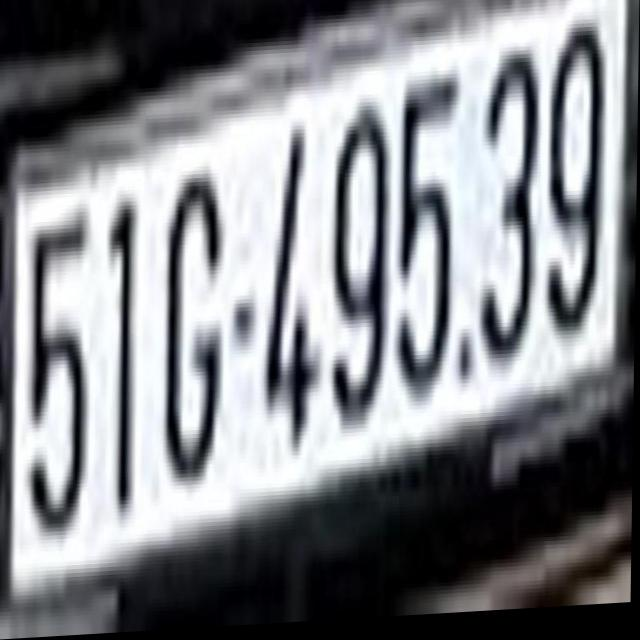1: (102, 191, 138, 511)
3: (479, 34, 535, 377)
4: (267, 109, 321, 460)
5: (397, 68, 459, 400), (29, 209, 91, 537)
9: (544, 26, 607, 351), (329, 102, 386, 434)
G: (161, 168, 224, 489)
